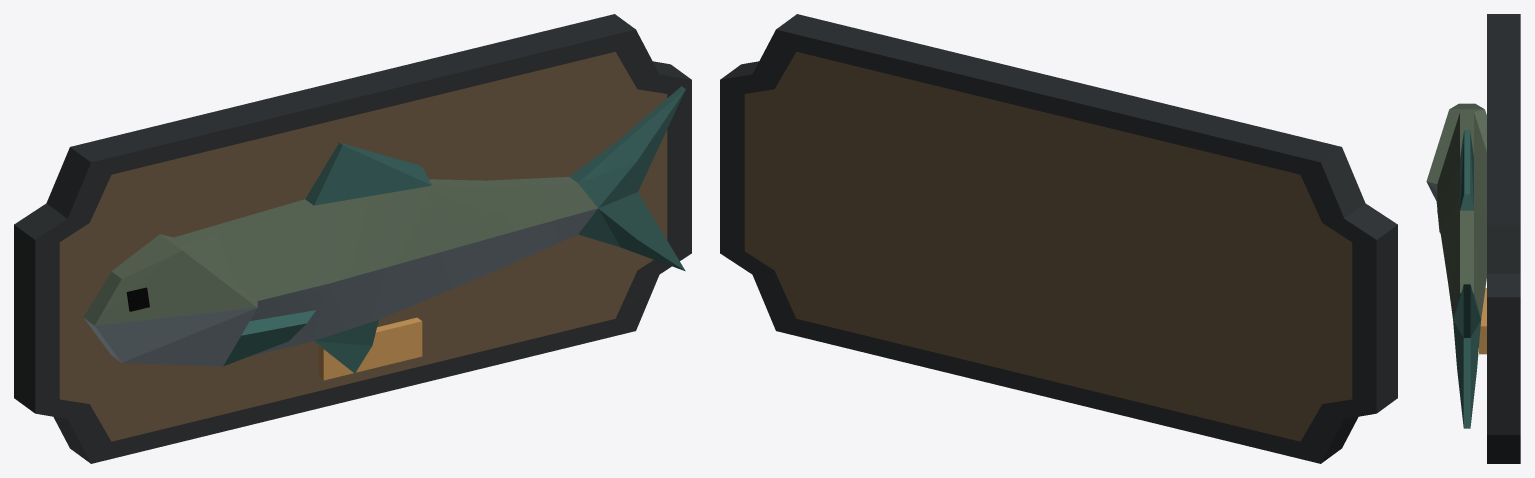
Rendered from SM_Prop_Hunting_Fish_02.obj.
3 renders of one model, left to right at view 1: azimuth 30°, elevation 25°; view 2: azimuth 150°, elevation 25°; view 3: azimuth 270°, elevation 25°, orthographic. The views are drawn at different scales.
Parts seen in each view (by area): view 1: SM_Prop_Hunting_Fish_02_0; view 2: SM_Prop_Hunting_Fish_02_0; view 3: SM_Prop_Hunting_Fish_02_0.
Boxes of the visible parts, x1=… form: SM_Prop_Hunting_Fish_02_0: x1=14, y1=14, x2=691, y2=463; SM_Prop_Hunting_Fish_02_0: x1=720, y1=14, x2=1397, y2=463; SM_Prop_Hunting_Fish_02_0: x1=1426, y1=14, x2=1520, y2=463.
Bounding box in the file's own units: 0.9656 × 0.4237 × 0.1511.
1 material, 1 textured.
